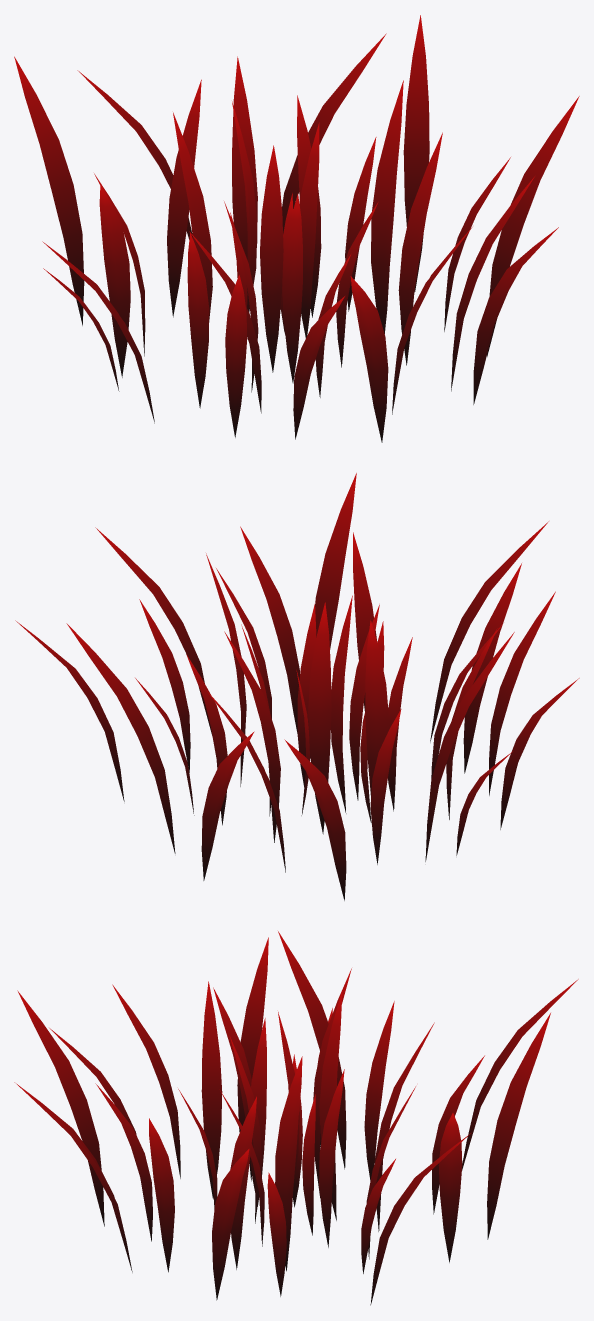
Rendered from Grass.fbx.
3 views of the same model, one above another, from view 1: azimuth 30°, elevation 25°; view 2: azimuth 150°, elevation 25°; view 3: azimuth 270°, elevation 25° (orthographic). The views are drawn at different scales.
Parts seen in each view (by area): view 1: Grass; view 2: Grass; view 3: Grass.
Boxes of the visible parts, box(x1,y1,x2,y2) form: Grass: box(14, 15, 579, 442); Grass: box(15, 473, 579, 900); Grass: box(14, 931, 578, 1305).
Bounding box in the file's own units: 7.67 × 3.51 × 7.83.
